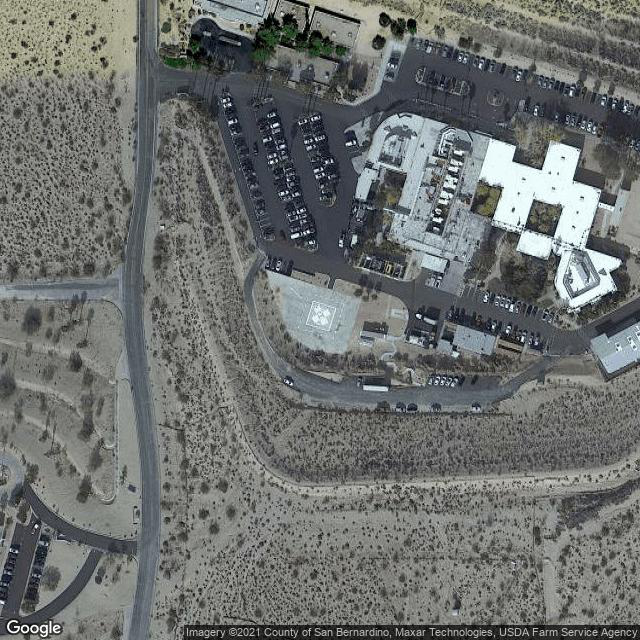Helipad: (303, 297, 339, 333)
